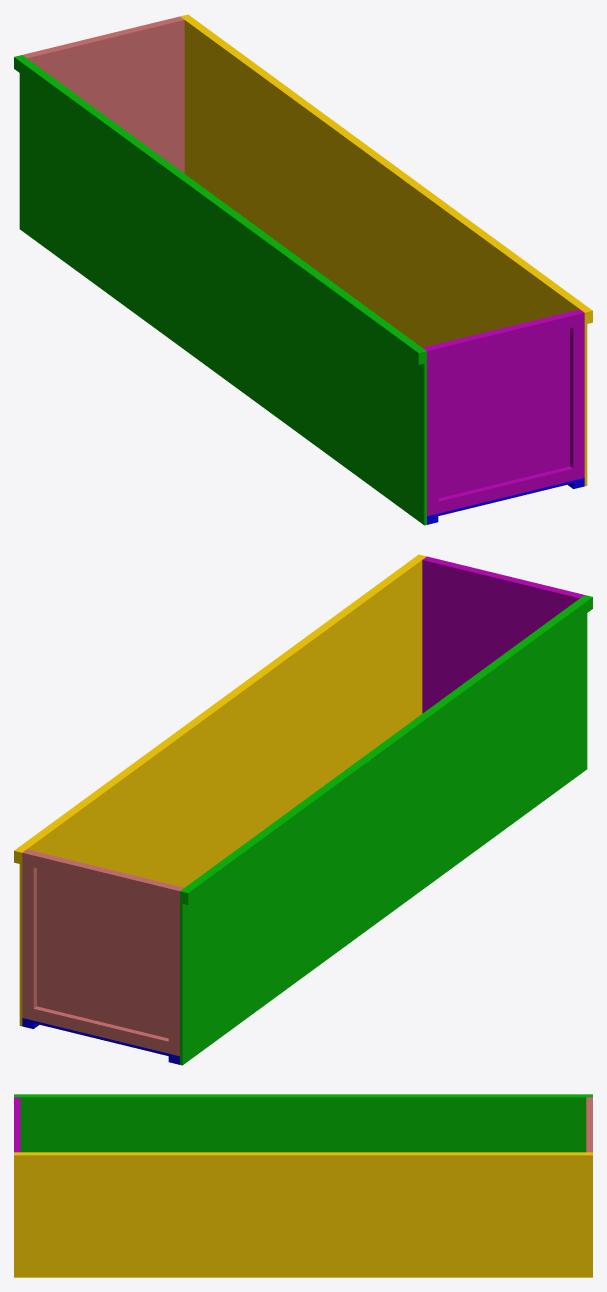
File: result.glb
3 views of the same model, one above another, from view 1: azimuth 30°, elevation 25°; view 2: azimuth 150°, elevation 25°; view 3: azimuth 270°, elevation 25° (orthographic). The views are drawn at different scales.
Parts seen in each view (by area): view 1: 8285dc50-fea6-43a2-89fc-434af40146ee__Box_6, a976e286-c613-41c1-9160-95ff0be0952d__undefined, c0788c2e-00f3-447b-98cd-d936ea41a914__Box_3, 980a81f3-72e2-4b05-b815-cf9af78f02ed__undefined, 335c9e01-1a52-4bd8-8965-a73c25734b63__Box_7, f98e938c-de35-4f3c-8f4b-62de8607defa__undefined, 76176e58-cc6c-455f-b931-c34d9a3ffe86__undefined, b45352fa-2cd0-40d3-a681-b6dde5e77a93__undefined, 02cbdf85-87f9-4977-8c77-ff76c3fc0d8c__Box_5, 41d12fe3-807c-4e88-bded-3c92e3510668__Box_4; view 2: 8285dc50-fea6-43a2-89fc-434af40146ee__Box_6, a976e286-c613-41c1-9160-95ff0be0952d__undefined, 980a81f3-72e2-4b05-b815-cf9af78f02ed__undefined, c0788c2e-00f3-447b-98cd-d936ea41a914__Box_3, 335c9e01-1a52-4bd8-8965-a73c25734b63__Box_7, f98e938c-de35-4f3c-8f4b-62de8607defa__undefined, c8baee3e-cda0-440b-82ba-b2bb97ba26f0__undefined, 85cea949-9b56-4140-825c-815c87344a6f__undefined, d5082380-ff0a-4269-9f1c-4c7378211535__undefined, 840276ba-346c-4a79-a690-b5a420cf5bb8__undefined; view 3: a976e286-c613-41c1-9160-95ff0be0952d__undefined, 8285dc50-fea6-43a2-89fc-434af40146ee__Box_6, f98e938c-de35-4f3c-8f4b-62de8607defa__undefined, 335c9e01-1a52-4bd8-8965-a73c25734b63__Box_7.
Boxes of the visible parts, bbox=[...] form: 8285dc50-fea6-43a2-89fc-434af40146ee__Box_6: bbox=[19, 55, 426, 525]; a976e286-c613-41c1-9160-95ff0be0952d__undefined: bbox=[180, 16, 587, 486]; c0788c2e-00f3-447b-98cd-d936ea41a914__Box_3: bbox=[422, 309, 580, 498]; 980a81f3-72e2-4b05-b815-cf9af78f02ed__undefined: bbox=[26, 19, 184, 173]; 335c9e01-1a52-4bd8-8965-a73c25734b63__Box_7: bbox=[14, 55, 424, 364]; f98e938c-de35-4f3c-8f4b-62de8607defa__undefined: bbox=[183, 14, 592, 323]; 76176e58-cc6c-455f-b931-c34d9a3ffe86__undefined: bbox=[570, 310, 584, 480]; b45352fa-2cd0-40d3-a681-b6dde5e77a93__undefined: bbox=[435, 313, 573, 360]; 02cbdf85-87f9-4977-8c77-ff76c3fc0d8c__Box_5: bbox=[438, 466, 573, 513]; 41d12fe3-807c-4e88-bded-3c92e3510668__Box_4: bbox=[424, 346, 438, 516]; 8285dc50-fea6-43a2-89fc-434af40146ee__Box_6: bbox=[180, 595, 587, 1065]; a976e286-c613-41c1-9160-95ff0be0952d__undefined: bbox=[19, 556, 426, 1026]; 980a81f3-72e2-4b05-b815-cf9af78f02ed__undefined: bbox=[26, 849, 184, 1038]; c0788c2e-00f3-447b-98cd-d936ea41a914__Box_3: bbox=[422, 559, 580, 713]; 335c9e01-1a52-4bd8-8965-a73c25734b63__Box_7: bbox=[182, 595, 592, 904]; f98e938c-de35-4f3c-8f4b-62de8607defa__undefined: bbox=[14, 554, 423, 863]; c8baee3e-cda0-440b-82ba-b2bb97ba26f0__undefined: bbox=[22, 850, 36, 1020]; 85cea949-9b56-4140-825c-815c87344a6f__undefined: bbox=[33, 853, 171, 900]; d5082380-ff0a-4269-9f1c-4c7378211535__undefined: bbox=[33, 1006, 168, 1053]; 840276ba-346c-4a79-a690-b5a420cf5bb8__undefined: bbox=[168, 886, 182, 1056]; a976e286-c613-41c1-9160-95ff0be0952d__undefined: bbox=[14, 1152, 592, 1277]; 8285dc50-fea6-43a2-89fc-434af40146ee__Box_6: bbox=[14, 1096, 592, 1152]; f98e938c-de35-4f3c-8f4b-62de8607defa__undefined: bbox=[14, 1153, 592, 1163]; 335c9e01-1a52-4bd8-8965-a73c25734b63__Box_7: bbox=[14, 1094, 592, 1096].
Size of the model in its own units: 552 by 526 by 2222.
